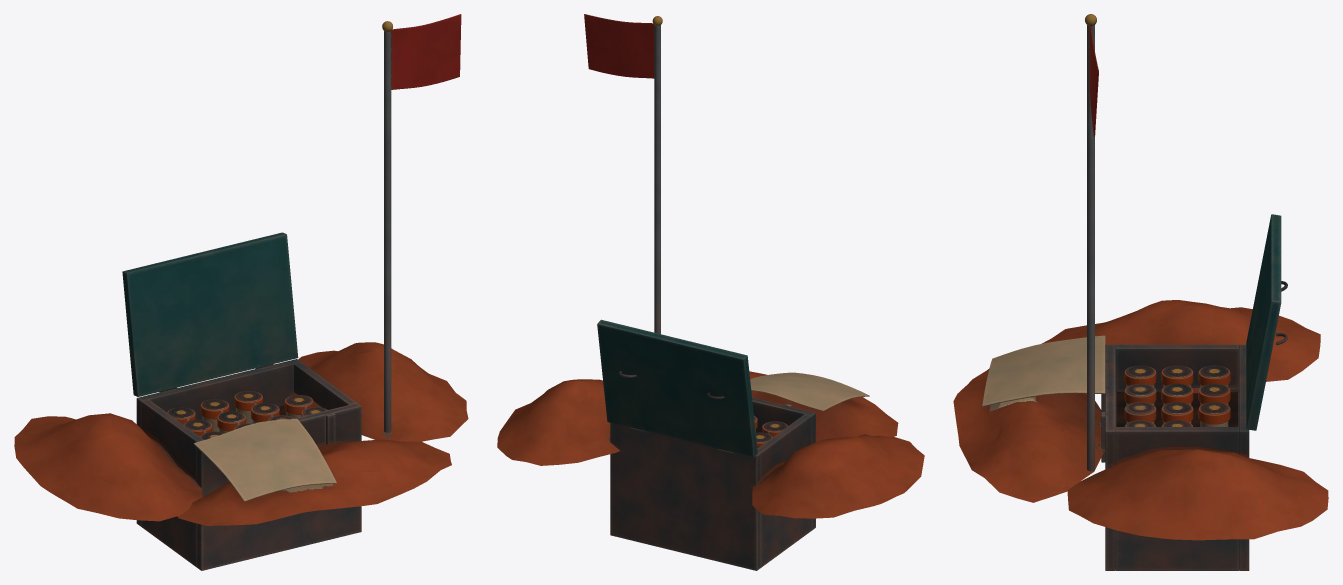
The model's file is filter_cache.glb.
3 views of the same model, side by side, from view 1: azimuth 30°, elevation 25°; view 2: azimuth 150°, elevation 25°; view 3: azimuth 270°, elevation 25° (orthographic). The views are drawn at different scales.
Visible parts, largest first — view 1: filter_cache; view 2: filter_cache; view 3: filter_cache.
Part boxes in pixels (x1=…): filter_cache: x1=14, y1=14, x2=468, y2=570; filter_cache: x1=497, y1=14, x2=924, y2=570; filter_cache: x1=953, y1=14, x2=1328, y2=570.
Size of the model in its own units: 2.59 by 3.04 by 1.82.
1 material, 1 textured.
